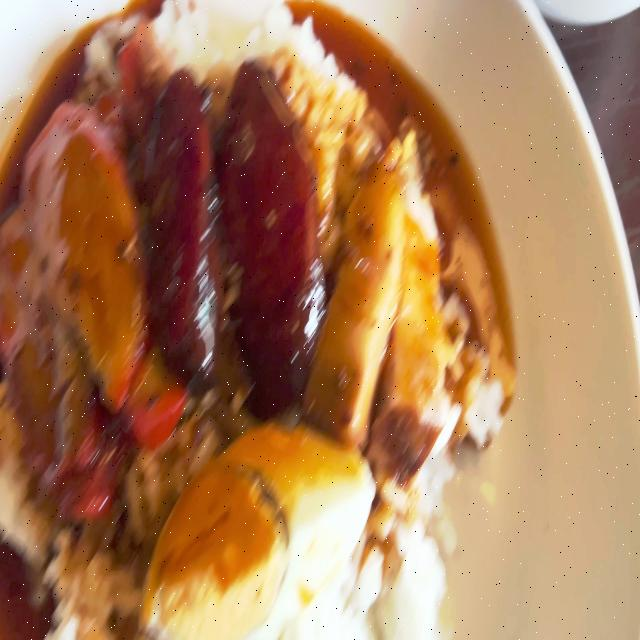boiled_egg: (155, 438, 362, 632)
chainese_sausage: (144, 84, 316, 368), (231, 82, 320, 380), (142, 69, 221, 354)
crispy_pork: (328, 135, 444, 456), (323, 166, 393, 408), (394, 155, 448, 440)
red_pork: (24, 77, 137, 505), (0, 234, 119, 517), (34, 105, 132, 387)
red_pork_and_crispy_pork: (0, 0, 481, 640)
rice: (359, 510, 465, 639), (139, 0, 326, 68), (40, 526, 120, 626)
